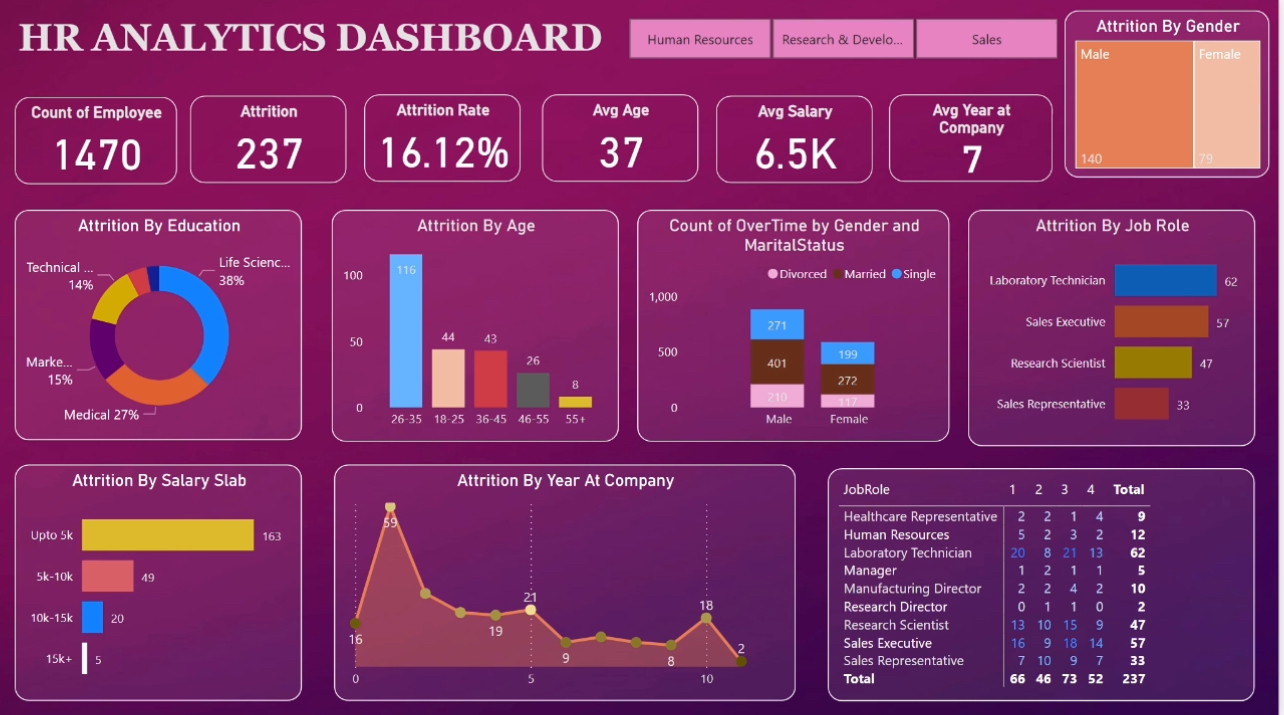

The page's visual inventory and layout, read from the dashboard file:
{"tool":"powerbi","page":{"name":"Page 1","canvas":[1280,720],"ordinal":0},"visuals":[{"type":"card","title":"Count of Employee","fields":{"Values":["CountNonNull(HR_Analytics.EmpID)"]},"box":[19,99.9,155.8,86.8],"z":0},{"type":"card","title":"Attrition","fields":{"Values":["Sum(HR_Analytics.AttritionCount)"]},"box":[191.5,98.7,155.8,86.8],"z":1},{"type":"card","title":"Attrition Rate ","fields":{"Values":["HR_Analytics.AttritionRate"]},"box":[367.6,97.5,155.8,86.8],"z":2},{"type":"card","title":"Avg Age","fields":{"Values":["Avg(HR_Analytics.Age)"]},"box":[544.8,97.5,155.8,86.8],"z":3},{"type":"card","title":"Avg Salary","fields":{"Values":["Avg(HR_Analytics.MonthlyIncome)"]},"box":[718.5,98.7,155.8,86.8],"z":5},{"type":"slicer","title":"Avg Year","fields":{"Values":["HR_Analytics.Department"]},"box":[606.7,15.5,477,53.5],"z":6},{"type":"donutChart","title":"Attrition By Education","fields":{"Y":["Sum(HR_Analytics.AttritionCount)"],"Category":["HR_Analytics.EducationField"]},"box":[19,212.9,286.7,229.6],"z":7},{"type":"columnChart","title":"Attrition By Age","fields":{"Category":["HR_Analytics.AgeGroup"],"Y":["Sum(HR_Analytics.AttritionCount)"]},"box":[335.5,212.9,286.7,230.8],"z":8},{"type":"pivotTable","fields":{"Rows":["HR_Analytics.JobRole"],"Columns":["HR_Analytics.JobSatisfaction"],"Values":["Sum(HR_Analytics.AttritionCount)"]},"box":[830.3,469.9,425.9,232],"z":9},{"type":"barChart","title":"Attrition By Salary Slab","fields":{"Category":["HR_Analytics.SalarySlab"],"Y":["Sum(HR_Analytics.AttritionCount)"]},"box":[19,466.3,286.7,235.5],"z":10},{"type":"barChart","title":"Attrition By Job Role","fields":{"Category":["HR_Analytics.JobRole"],"Y":["Sum(HR_Analytics.AttritionCount)"]},"box":[969.5,212.9,286.7,235.5],"z":11},{"type":"areaChart","title":"Attrition By Year At Company","fields":{"Y":["Sum(HR_Analytics.AttritionCount)"],"Category":["HR_Analytics.YearsAtCompany"]},"box":[337.8,466.3,460.4,235.5],"z":12},{"type":"treemap","title":"Attrition By Gender","fields":{"Group":["HR_Analytics.Gender"],"Values":["Sum(HR_Analytics.AttritionCount)"]},"box":[1065.9,14.3,204.6,166.5],"z":13},{"type":"textbox","box":[9.5,15.5,616.2,57.1],"z":14},{"type":"card","title":"Avg Year at Company","fields":{"Values":["Avg(HR_Analytics.YearsAtCompany)"]},"box":[891,97.5,163,86.8],"z":15},{"type":"columnChart","fields":{"Category":["HR_Analytics.Gender"],"Y":["CountNonNull(HR_Analytics.OverTime)"],"Series":["HR_Analytics.MaritalStatus"]},"box":[640,212.9,311.7,230.8],"z":16}]}

Visuals, with their boxes in screenshot pixels (x1, y1, x2, y2), scaled from the page's 1280x720 canvas onto the 1284x715 screenshot:
"Count of Employee" card: (19,99,175,185)
"Attrition" card: (192,98,348,184)
"Attrition Rate " card: (369,97,525,183)
"Avg Age" card: (547,97,703,183)
"Avg Salary" card: (721,98,877,184)
"Avg Year" slicer: (609,15,1087,69)
"Attrition By Education" donutChart: (19,211,307,439)
"Attrition By Age" columnChart: (337,211,624,441)
pivotTable - HR_Analytics.JobRole x HR_Analytics.JobSatisfaction: (833,467,1260,697)
"Attrition By Salary Slab" barChart: (19,463,307,697)
"Attrition By Job Role" barChart: (973,211,1260,445)
"Attrition By Year At Company" areaChart: (339,463,801,697)
"Attrition By Gender" treemap: (1069,14,1274,180)
textbox: (10,15,628,72)
"Avg Year at Company" card: (894,97,1057,183)
columnChart - HR_Analytics.Gender x CountNonNull(HR_Analytics.OverTime): (642,211,955,441)
